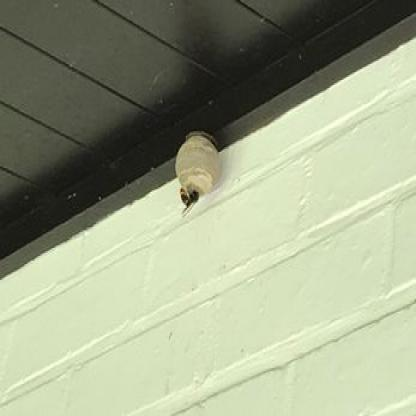Asian Hornet: (177, 185, 204, 220)
